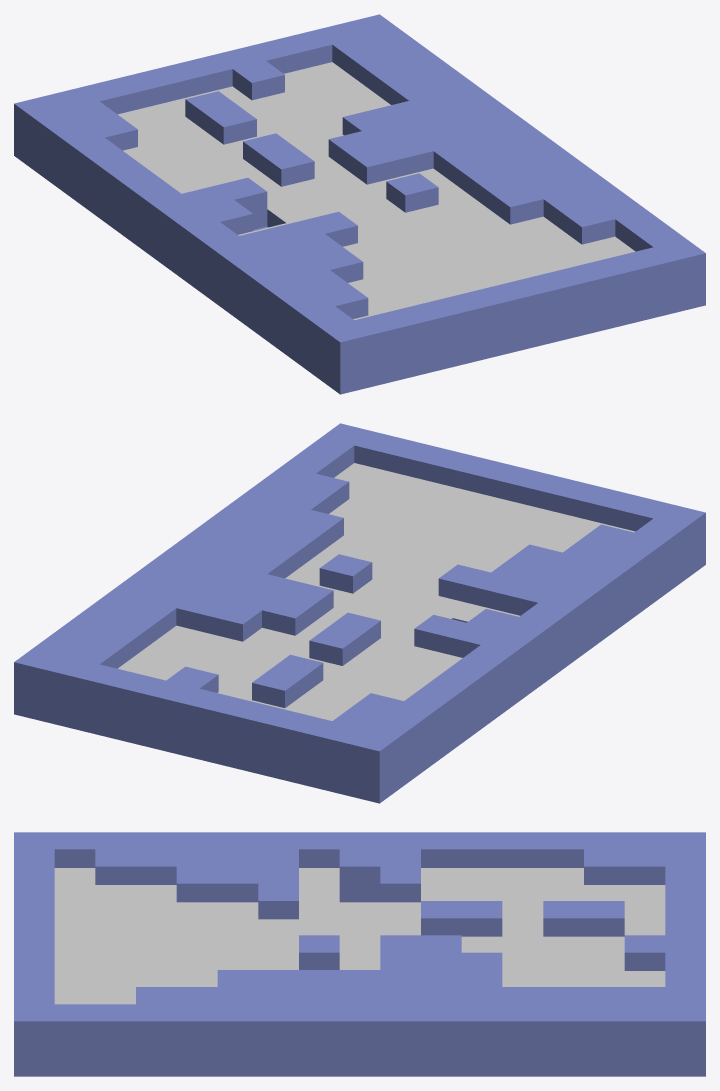
File: 039_platform.fbx
3 renders of one model, top to bottom at view 1: azimuth 30°, elevation 25°; view 2: azimuth 150°, elevation 25°; view 3: azimuth 270°, elevation 25°, orthographic. The views are drawn at different scales.
Visible parts, largest first — view 1: Grid; view 2: Grid; view 3: Grid.
Part boxes in pixels (x1,y1,x2,y2): Grid: (14, 14, 705, 394); Grid: (14, 423, 705, 803); Grid: (14, 832, 705, 1076).
Size of the model in its own units: 1100 by 150 by 1700.
